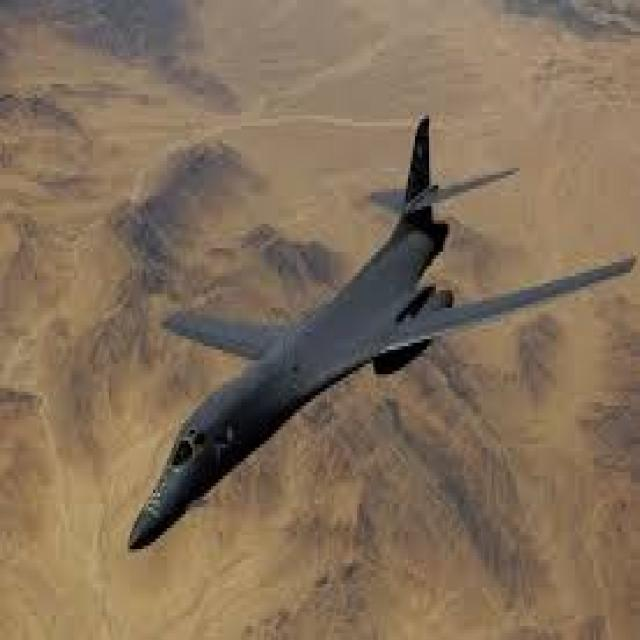B1: (104, 102, 640, 566)
